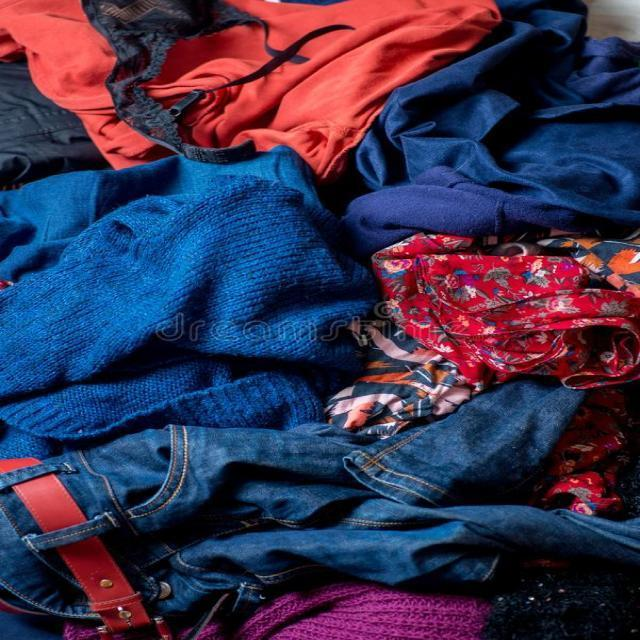clothes: (14, 13, 596, 628)
